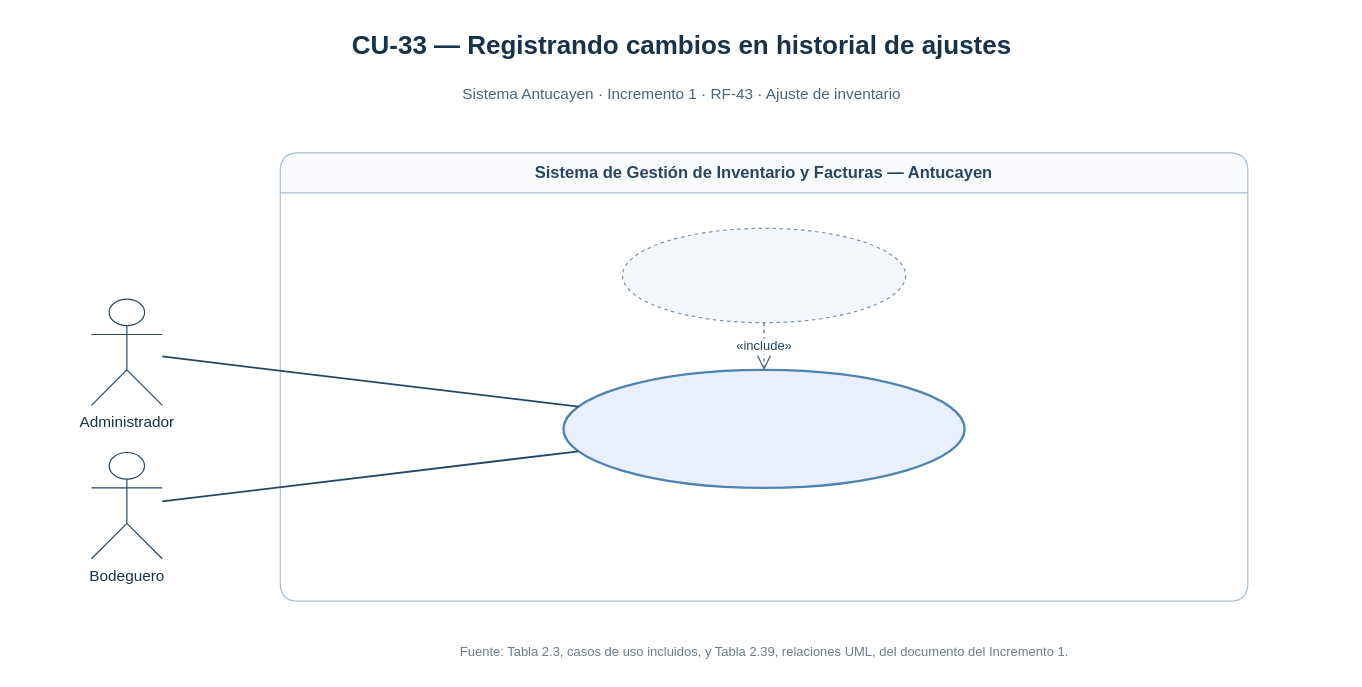
The diagram is 1362 pixels wide and 687 high, and some of its shapes have lost their labels. Each missing label, with the centre of its shape:
"CU-32 Confirmando y aplicando ajuste de stock" goes at [763,275].
"CU-33 Registrando cambios en historial de ajustes" goes at [763,428].
